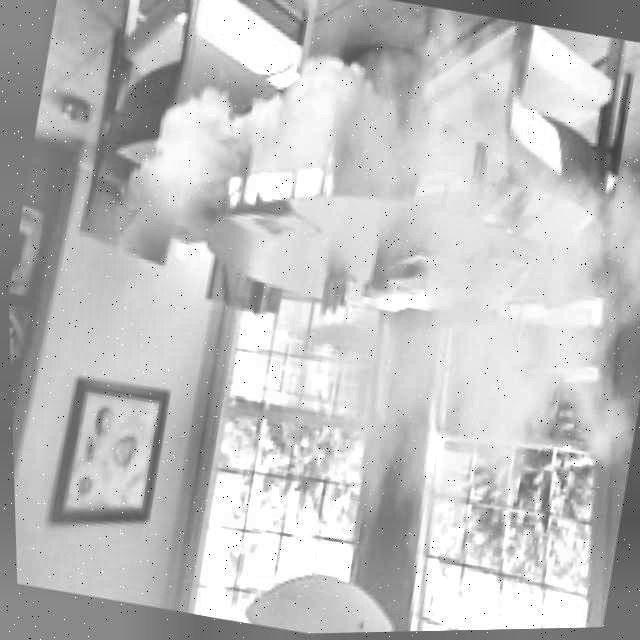Smoke: (56, 0, 640, 630)
